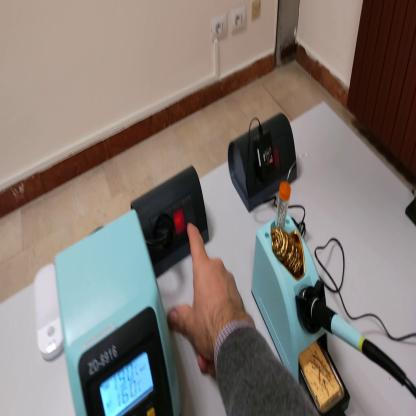hand: (169, 224, 252, 377)
socket: (133, 168, 212, 281), (230, 108, 299, 214)
welder base: (253, 183, 353, 415)
welder probe tip: (310, 301, 405, 385)
welder station: (57, 215, 181, 416)
